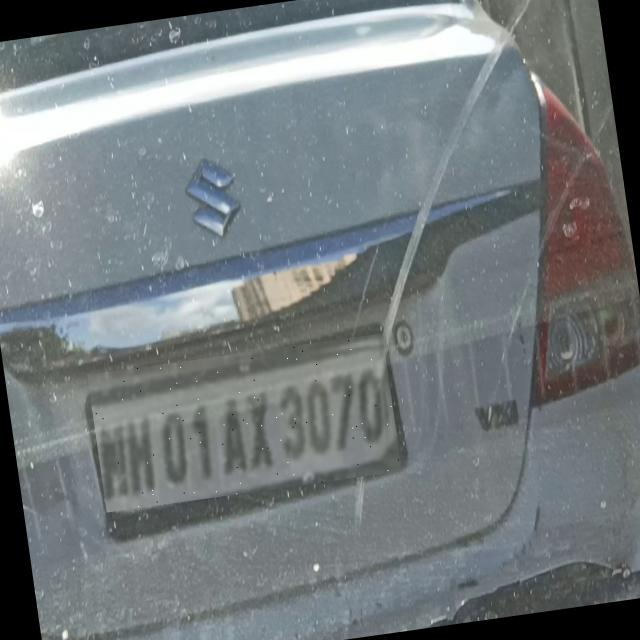Plate: (89, 335, 403, 514)
